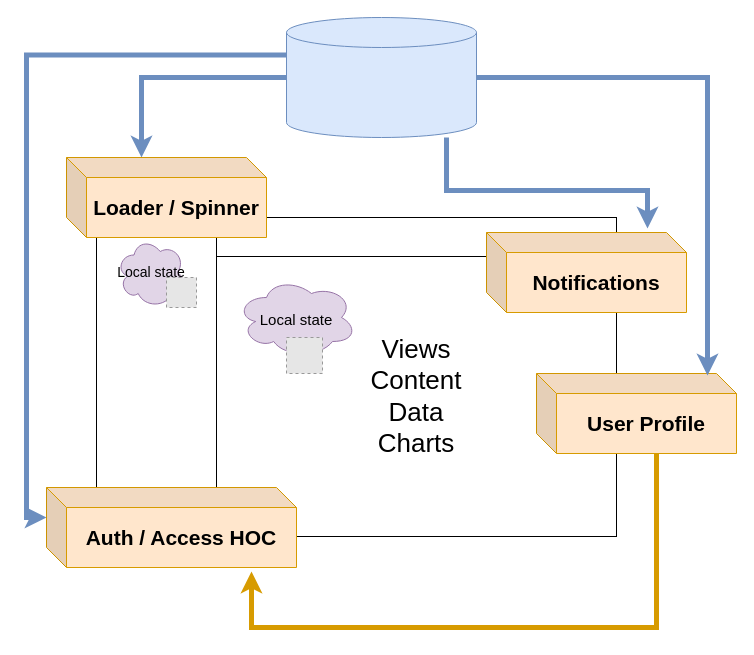
This 754x655 diagram has some shape labels left out. Grey dashed boxes stand in for pictures. Here are the shapes that lost their labels. From the top down, the box of each, then its label:
(286, 16, 476, 138): STORES
(216, 216, 616, 258): Topbar
(96, 216, 216, 538): Navigation
